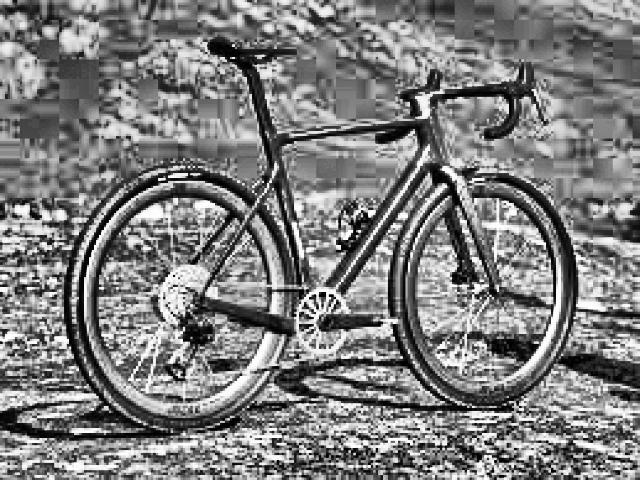cassette: (159, 266, 220, 330)
cranks_set: (292, 287, 385, 356)
rear_derailleur: (163, 305, 219, 380)
saddle: (204, 35, 298, 67)
sti_shifter: (520, 62, 552, 130)
wheel: (62, 165, 300, 433), (390, 169, 584, 411)
